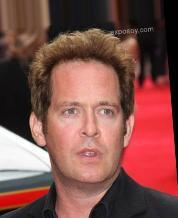face: (59, 101, 118, 165)
